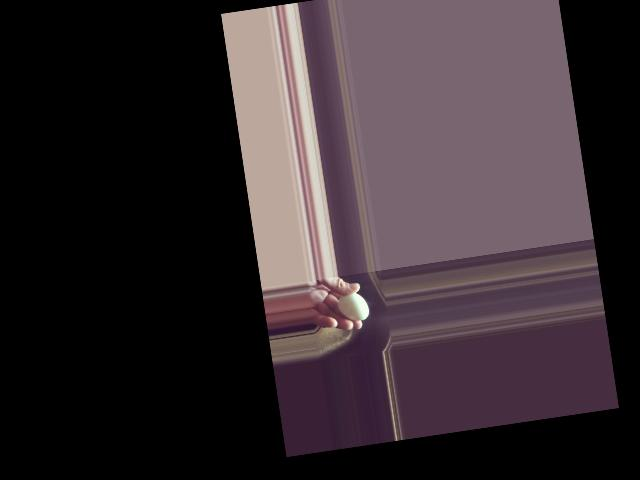egg: (336, 290, 369, 322)
